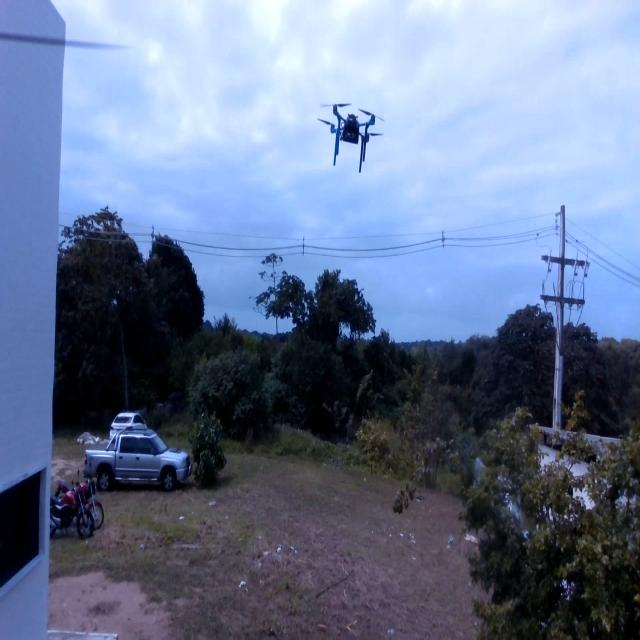-uav-: (318, 76, 388, 191)
